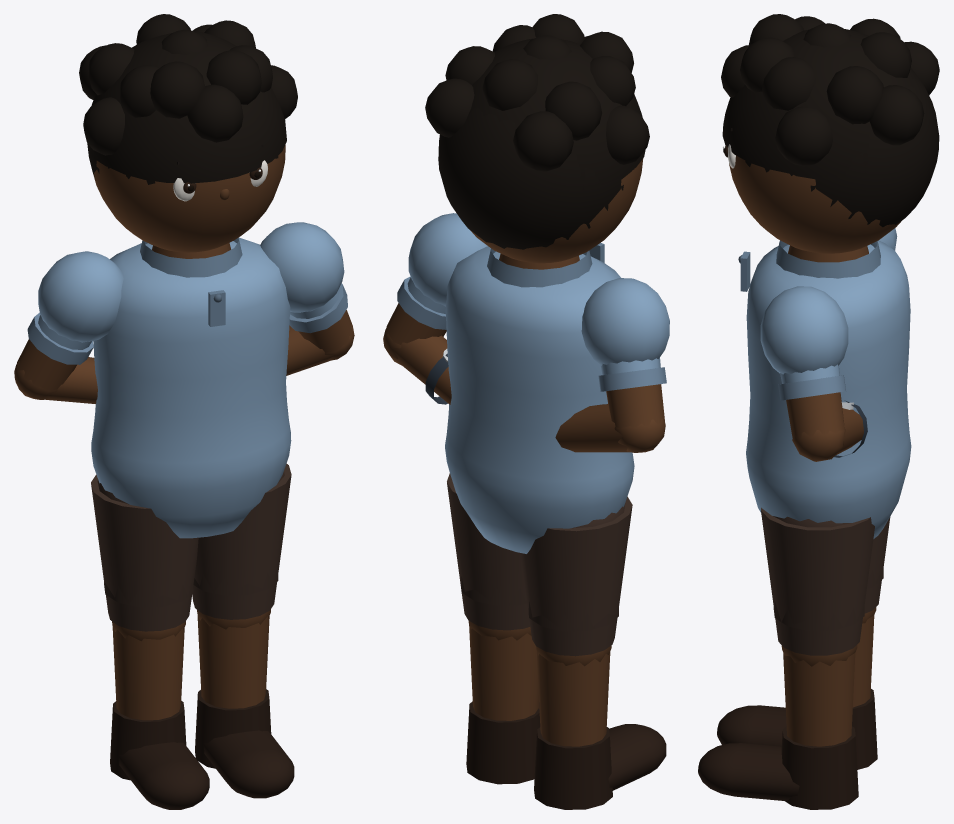
Rendered from 19-kwame.glb.
3 renders of one model, left to right at view 1: azimuth 30°, elevation 25°; view 2: azimuth 150°, elevation 25°; view 3: azimuth 270°, elevation 25°, orthographic. The views are drawn at different scales.
Parts seen in each view (by area): view 1: Kwame, skull, armR, armL, elbow (×2); view 2: Kwame, skull, armR, armL, elbow (×2); view 3: Kwame, skull, armL, elbow.
Part boxes in pixels (x1,y1,x2,y2): Kwame: (91,237,294,809); skull: (79,14,297,252); armR: (17,251,123,390); armL: (260,222,352,352); elbow (×2): (14,325,354,403); Kwame: (445,242,666,809); skull: (425,14,649,263); armR: (581,278,669,429); armL: (386,213,487,344); elbow (×2): (383,327,665,452); Kwame: (698,240,911,809); skull: (721,14,939,253); armL: (760,286,848,438); elbow: (792,400,867,461).
Bounding box in the file's own units: 0.4371 × 1.02 × 0.2971.
